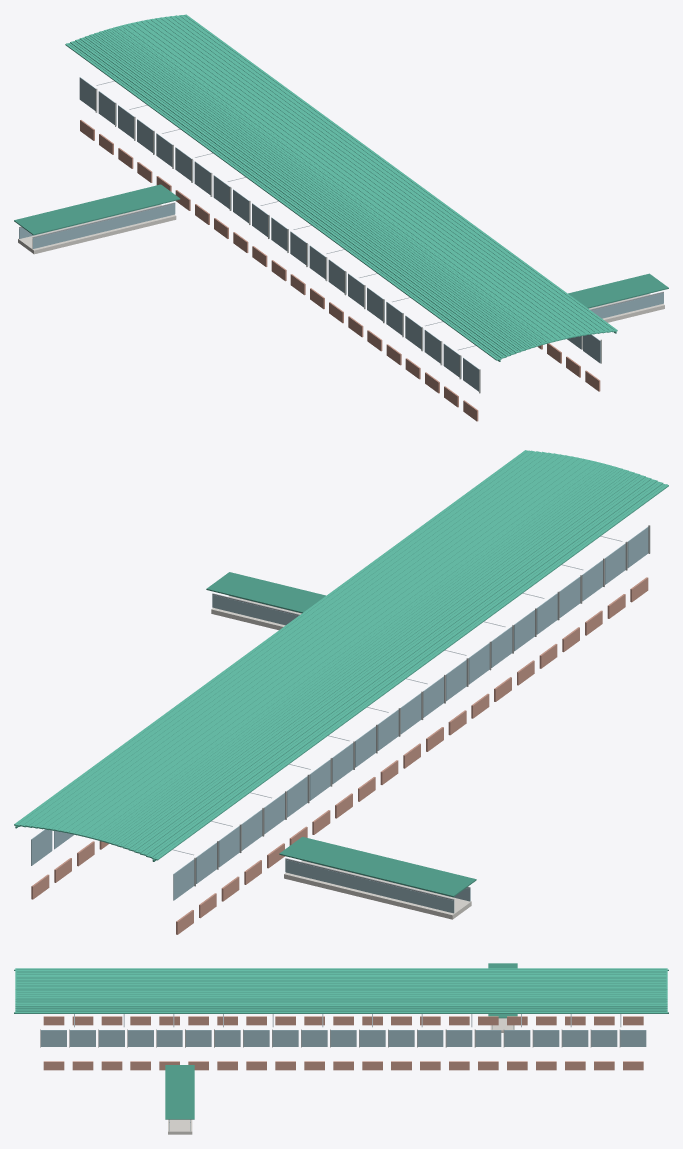
Rendered from station-2-photo-reference.glb.
3 views of the same model, one above another, from view 1: azimuth 30°, elevation 25°; view 2: azimuth 150°, elevation 25°; view 3: azimuth 270°, elevation 25° (orthographic). The views are drawn at different scales.
Visible parts, largest first — view 1: Station 2 photo-informed architecture and surroundings; view 2: Station 2 photo-informed architecture and surroundings; view 3: Station 2 photo-informed architecture and surroundings.
Part boxes in pixels (bbox=[...]): Station 2 photo-informed architecture and surroundings: bbox=[14, 14, 668, 421]; Station 2 photo-informed architecture and surroundings: bbox=[14, 450, 668, 934]; Station 2 photo-informed architecture and surroundings: bbox=[14, 963, 668, 1134].
Bounding box in the file's own units: 89 × 18.91 × 158.
